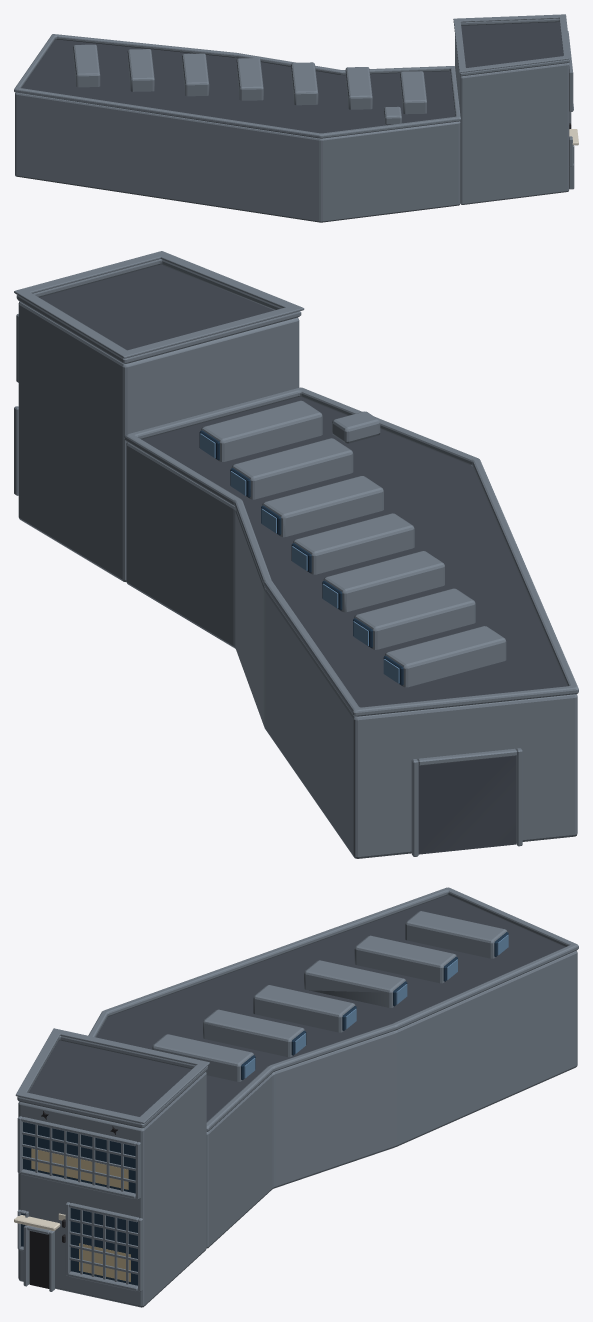
Rendered from 156-south-park.optimized.glb.
3 renders of one model, top to bottom at view 1: azimuth 30°, elevation 25°; view 2: azimuth 150°, elevation 25°; view 3: azimuth 270°, elevation 25°, orthographic. The views are drawn at different scales.
Parts seen in each view (by area): view 1: grp_Toy_roofd_Toy_slate, grp_Toy_slate; view 2: grp_Toy_roofd_Toy_slate, grp_Toy_slate, veh_fill, grp_Toy_glass_Glow, grp_Toy_glass; view 3: grp_Toy_roofd_Toy_slate, grp_Toy_slate, grp_Toy_glass, grp_Toy_warm_Glow, grp_Toy_ink, grp_Toy_glass_Glow.
Boxes of the visible parts, <box> form: grp_Toy_roofd_Toy_slate: <box>15,22,569,222</box>; grp_Toy_slate: <box>14,14,574,189</box>; grp_Toy_roofd_Toy_slate: <box>18,265,577,858</box>; grp_Toy_slate: <box>14,251,578,856</box>; veh_fill: <box>418,756,515,854</box>; grp_Toy_glass_Glow: <box>200,433,399,683</box>; grp_Toy_glass: <box>199,430,403,685</box>; grp_Toy_roofd_Toy_slate: <box>18,895,577,1307</box>; grp_Toy_slate: <box>15,887,578,1291</box>; grp_Toy_glass: <box>21,932,508,1285</box>; grp_Toy_warm_Glow: <box>31,1148,130,1281</box>; grp_Toy_ink: <box>29,1111,117,1288</box>; grp_Toy_glass_Glow: <box>244,934,508,1078</box>.
Size of the model in its own units: 29.94 by 8.7 by 23.72.
